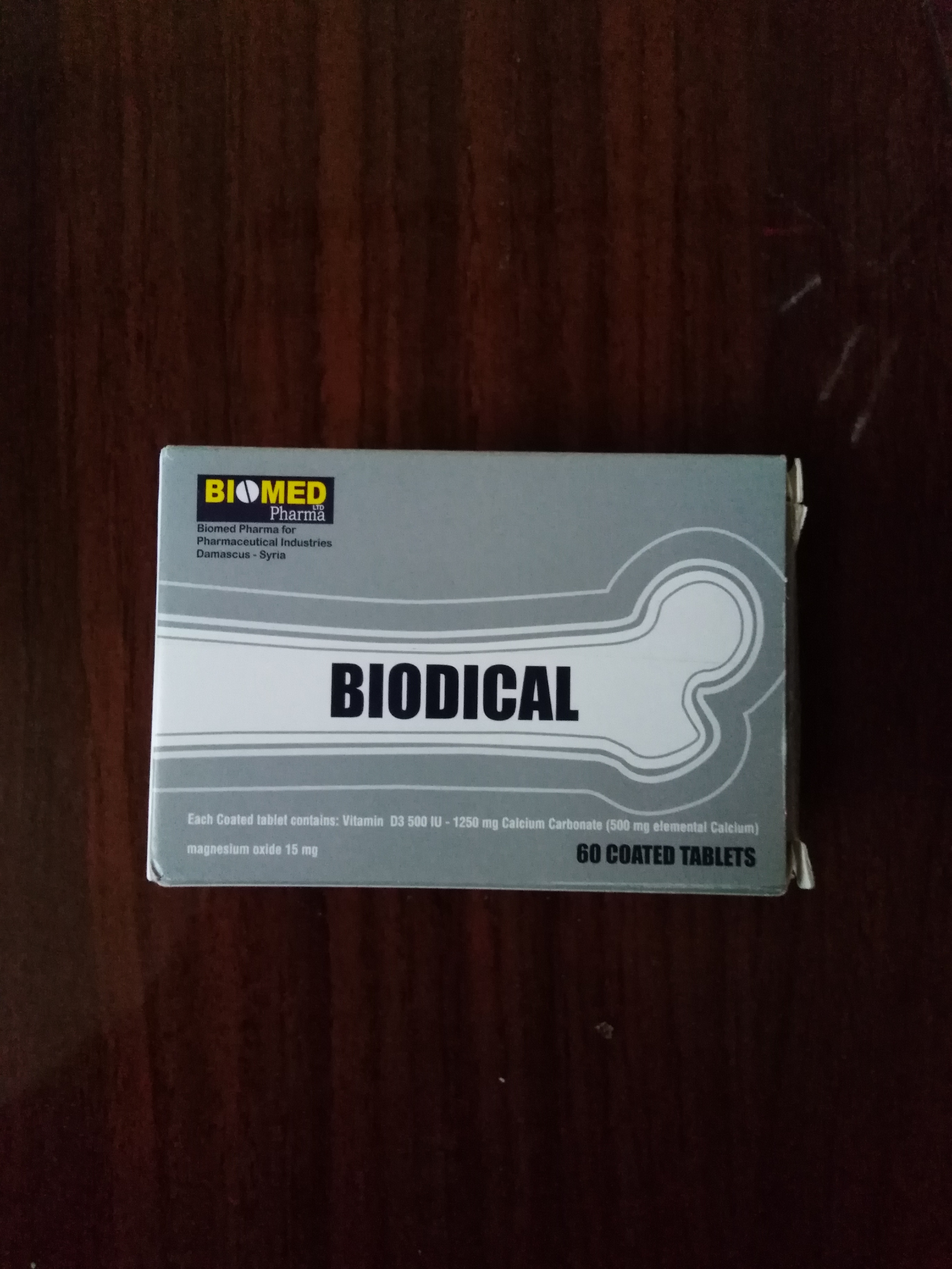Medicine: (133, 422, 825, 926)
